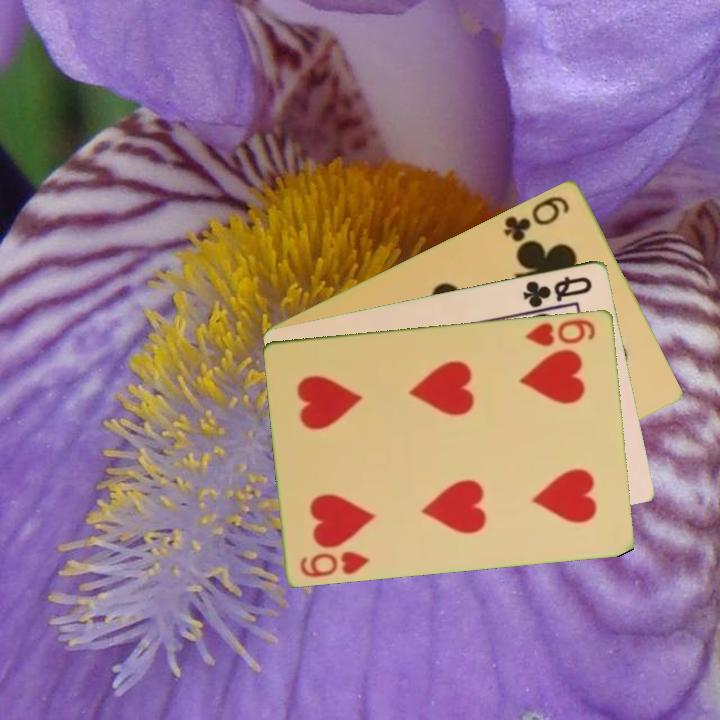6c: (500, 191, 573, 245)
6h: (522, 315, 599, 349), (297, 547, 373, 580)
Qc: (519, 272, 596, 310)
